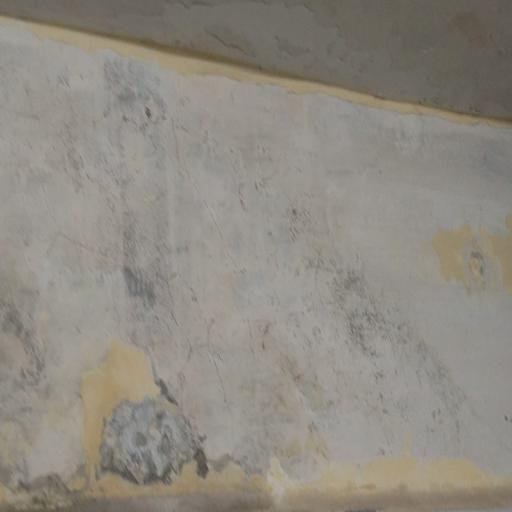peeling: (4, 248, 244, 493)
